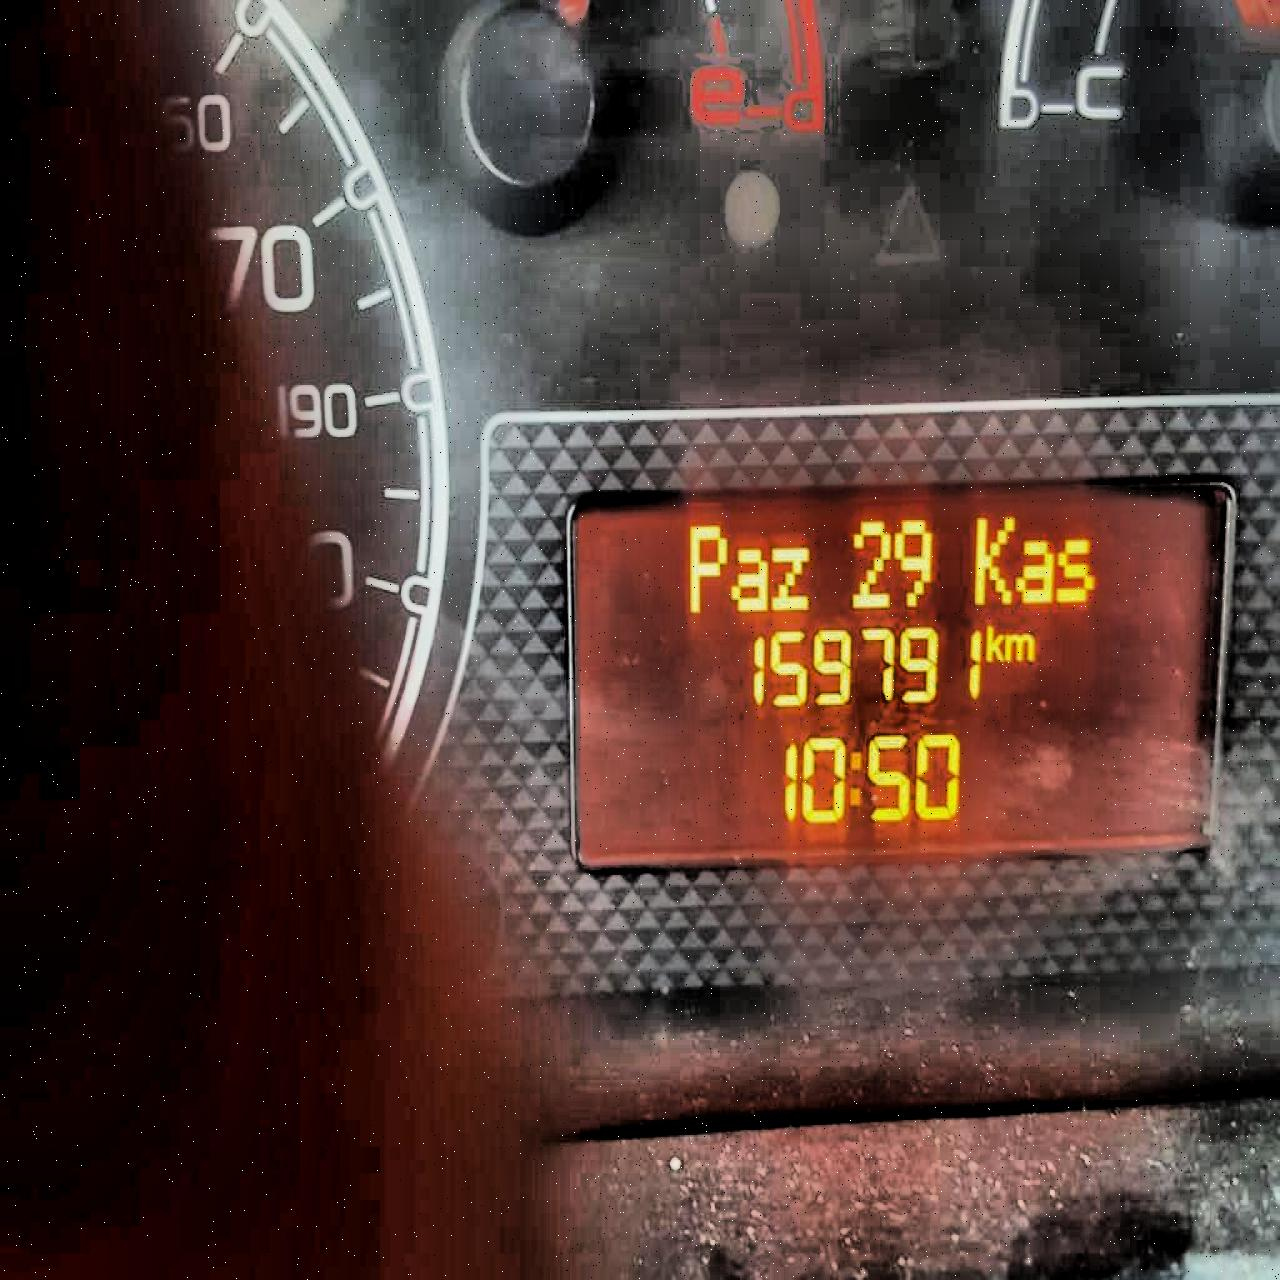0: (915, 727, 960, 822), (802, 731, 844, 823)
1: (965, 621, 981, 703), (783, 735, 798, 822), (750, 631, 765, 707)
2: (849, 513, 891, 613)
5: (864, 731, 911, 825), (770, 624, 808, 710)
7: (858, 621, 893, 701)
9: (893, 513, 937, 608), (899, 619, 939, 708), (812, 625, 851, 710)
X: (972, 510, 1016, 607), (688, 517, 727, 615), (769, 539, 812, 613), (1054, 533, 1096, 607), (1016, 533, 1054, 608), (729, 544, 769, 613), (1003, 631, 1037, 662), (983, 620, 1005, 665), (849, 743, 862, 812)
odometer: (566, 475, 1247, 865)
